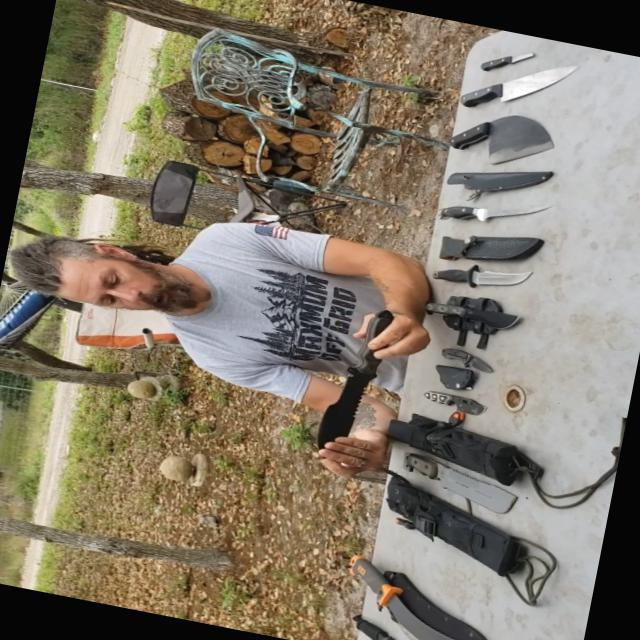knife: (301, 525, 520, 639), (299, 286, 406, 478), (442, 35, 572, 132), (424, 96, 572, 180), (376, 437, 524, 520), (429, 178, 560, 240), (426, 244, 550, 306), (412, 285, 537, 337), (464, 30, 555, 89), (419, 336, 512, 382), (406, 378, 491, 424), (338, 607, 430, 639)
